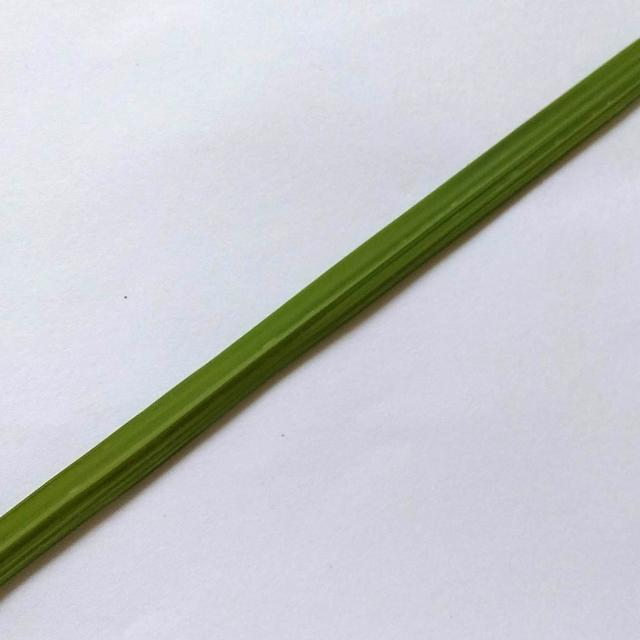Rice_Healthy: (0, 38, 640, 584)
